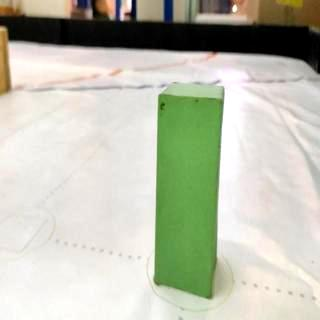greenbox: (153, 78, 227, 302)
